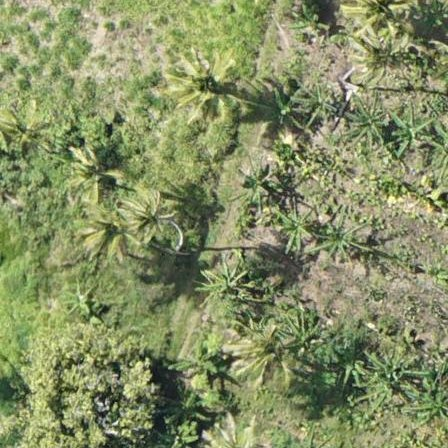palm_tree: (171, 52, 239, 121), (224, 324, 291, 387), (122, 185, 182, 249), (342, 1, 416, 46)
